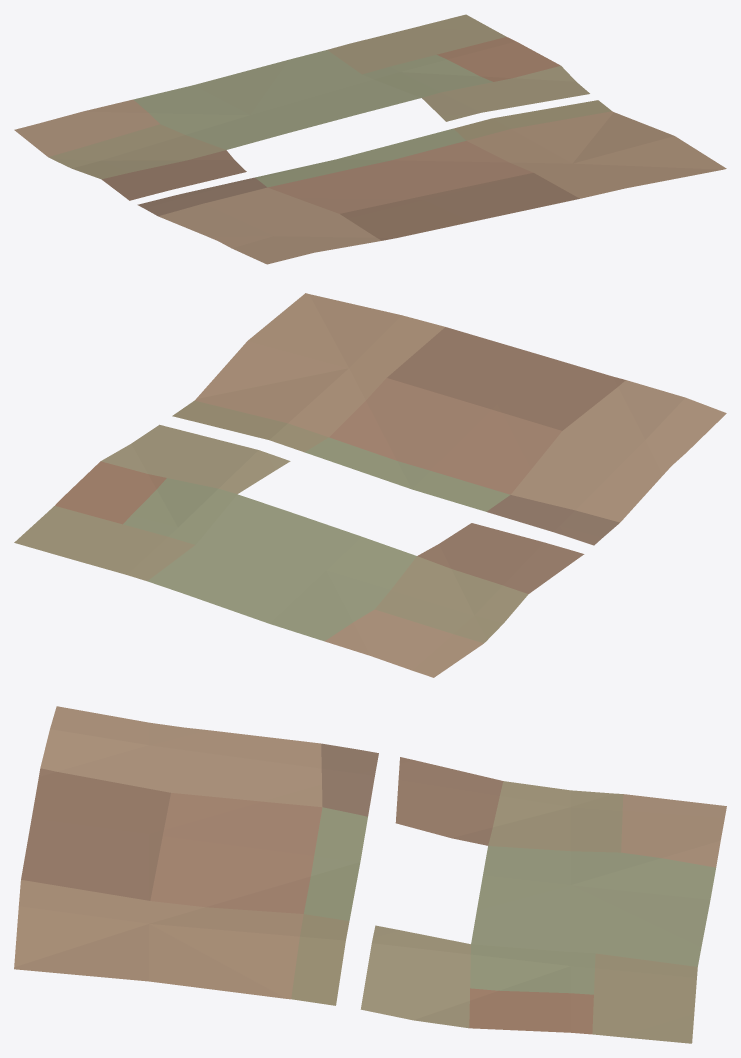
Rendered from farm_-4_-3_soil.glb.
3 views of the same model, one above another, from view 1: azimuth 30°, elevation 25°; view 2: azimuth 150°, elevation 25°; view 3: azimuth 270°, elevation 25° (orthographic). The views are drawn at different scales.
Parts seen in each view (by area): view 1: geometry_0; view 2: geometry_0; view 3: geometry_0.
Boxes of the visible parts, bbox=[...] form: geometry_0: bbox=[14, 14, 726, 264]; geometry_0: bbox=[14, 293, 726, 677]; geometry_0: bbox=[14, 706, 726, 1043].
Size of the model in its own units: 248 by 38.44 by 271.
